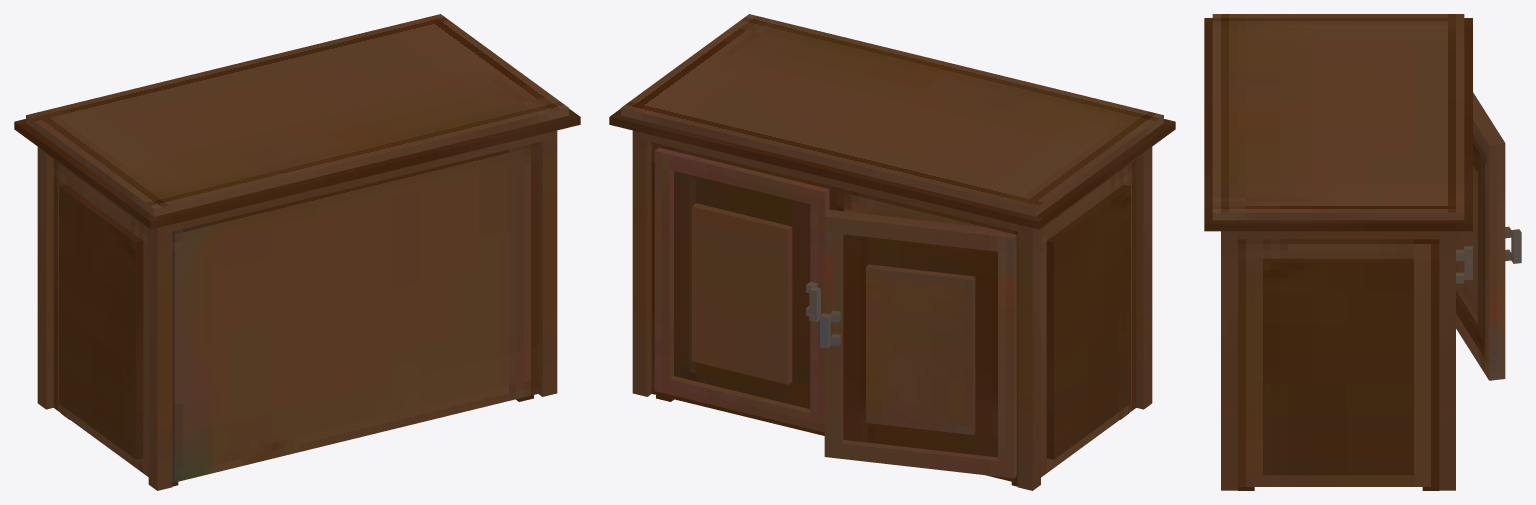
The model's file is cabinet-2.glb.
3 renders of one model, left to right at view 1: azimuth 30°, elevation 25°; view 2: azimuth 150°, elevation 25°; view 3: azimuth 270°, elevation 25°, orthographic.
Visible parts, largest first — view 1: Cabinet2-Local; view 2: Cabinet2-Local; view 3: Cabinet2-Local.
Boxes of the visible parts, <box> form: Cabinet2-Local: <box>14,14,580,490</box>; Cabinet2-Local: <box>609,14,1175,490</box>; Cabinet2-Local: <box>1204,14,1521,490</box>.
Size of the model in its own units: 3.07 by 2.01 by 2.
Materials: 3 (3 with a texture image).
